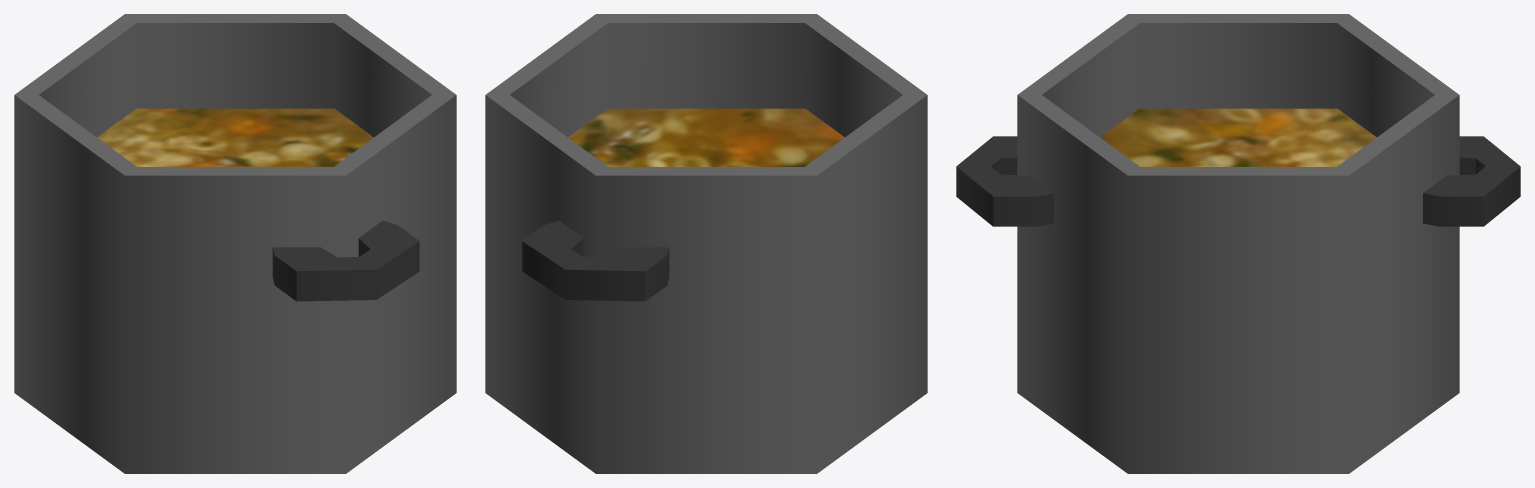
The model's file is panela2.glb.
3 views of the same model, side by side, from view 1: azimuth 30°, elevation 25°; view 2: azimuth 150°, elevation 25°; view 3: azimuth 270°, elevation 25° (orthographic).
Parts seen in each view (by area): view 1: Cylinder.004; view 2: Cylinder.004; view 3: Cylinder.004.
Part boxes in pixels (x1,y1,x2,y2): Cylinder.004: (14,14,456,473); Cylinder.004: (485,14,927,473); Cylinder.004: (956,14,1520,473).
Bounding box in the file's own units: 0.5759 × 0.495 × 0.849.
Materials: 1 (1 with a texture image).
